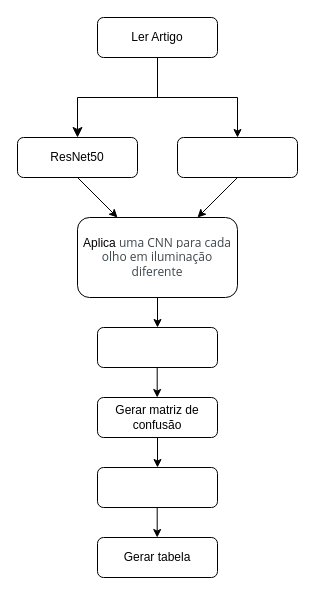
This 315x595 diagram has some shape labels left out. The box of each missing label's shape, as (x1, y1, x2, y2) in pixels:
AlexNet: (176, 136, 298, 178)
Avaliar o resultado: (96, 466, 218, 508)
Média de erro e acerto: (96, 326, 218, 368)
